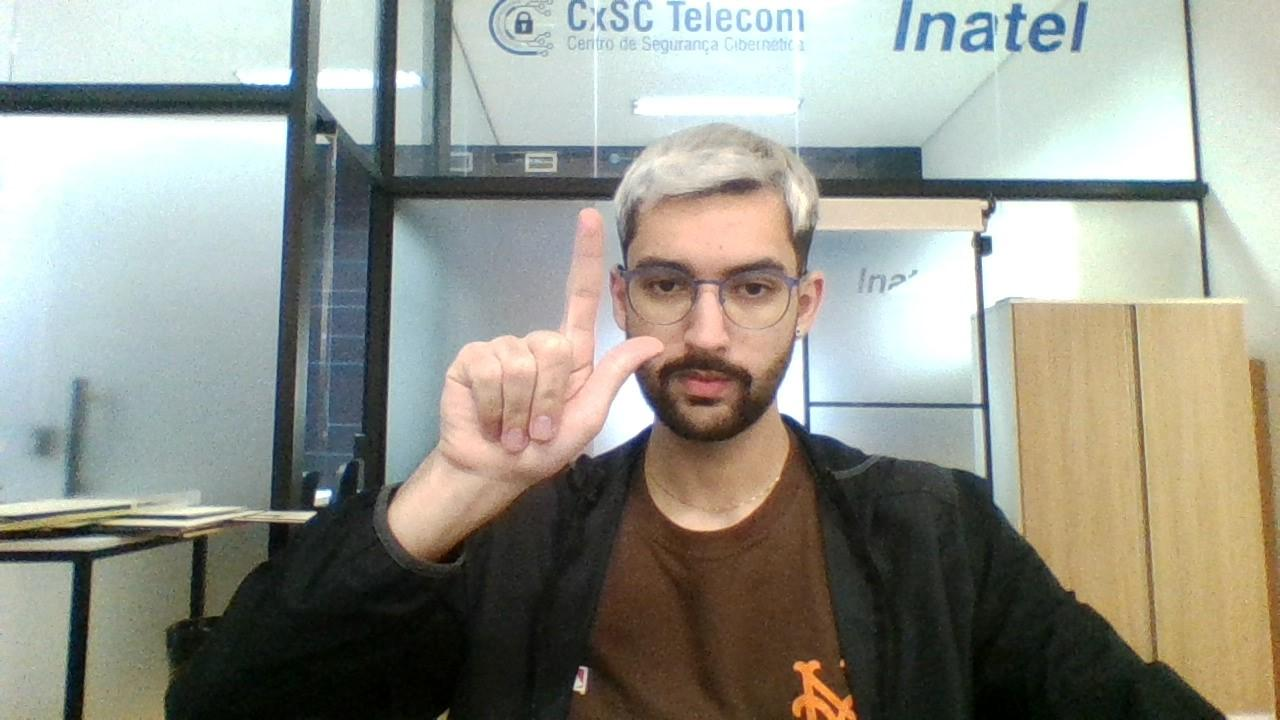G: (430, 202, 670, 500)
